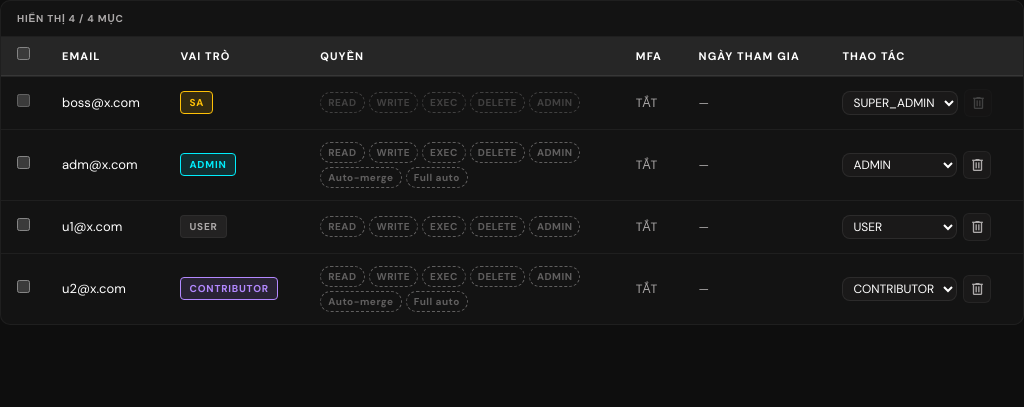
Test case: AdminAccountTable bulk actions › role change sends a ROLE body without a dialog for CONTRIBUTOR
The width and height of the screenshot is (1024, 407).
Click the checkbox named "Chọn tài khoản u1@x.com" at (24, 224), box [17,218,30,231]
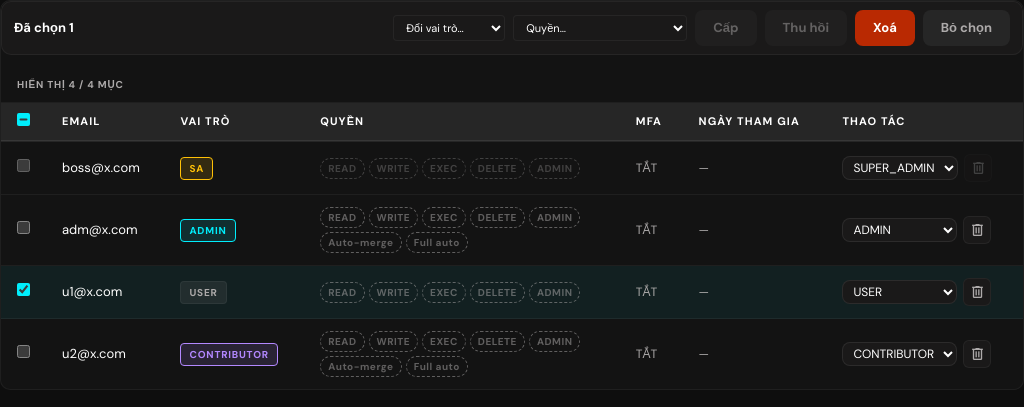
Click the checkbox named "Chọn tài khoản u2@x.com" at (24, 352), box [17,345,30,358]
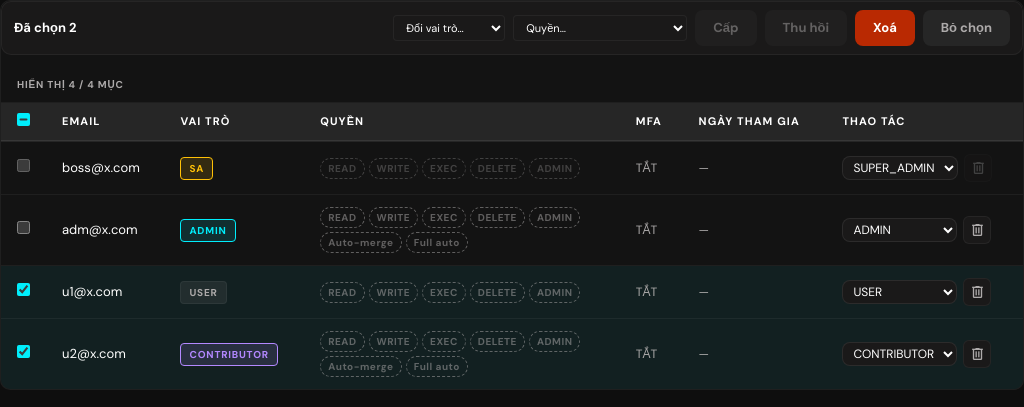
Select "CONTRIBUTOR" in the dropdown named "Đổi vai trò các tài khoản đã chọn" at (449, 28), box [393,15,505,41]
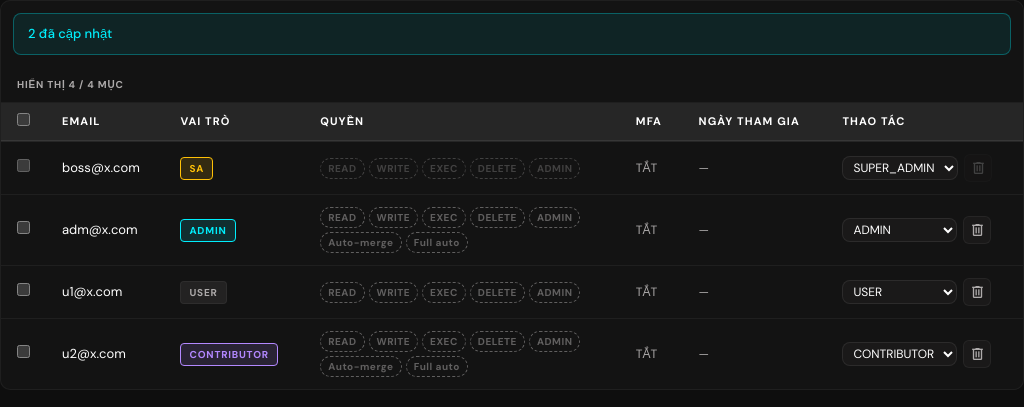
Check: the message shows "2", box [28,25,112,42]
